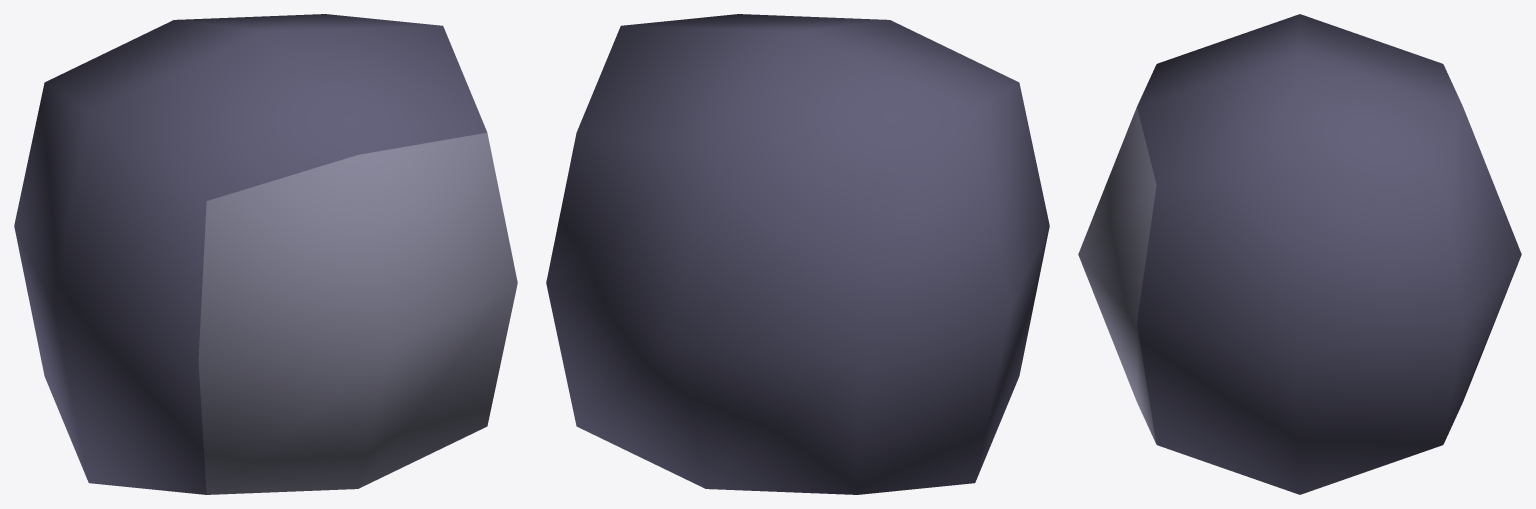
Rendered from rock.fbx.
3 renders of one model, left to right at view 1: azimuth 30°, elevation 25°; view 2: azimuth 150°, elevation 25°; view 3: azimuth 270°, elevation 25°, orthographic. The views are drawn at different scales.
Parts seen in each view (by area): view 1: pCube1; view 2: pCube1; view 3: pCube1.
Boxes of the visible parts, x1,y1,x2,y2 form: pCube1: (14, 14, 517, 494); pCube1: (546, 14, 1049, 494); pCube1: (1078, 14, 1521, 494).
Bounding box in the file's own units: 11.25 × 11.25 × 11.48.
